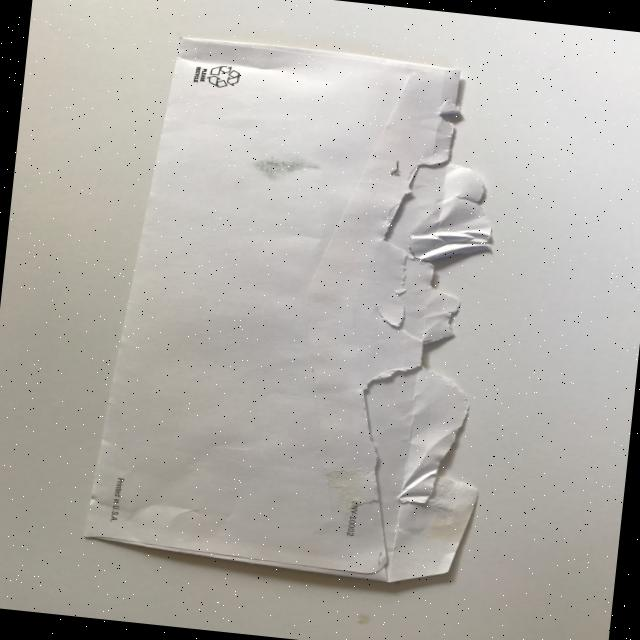paper: (81, 29, 522, 590)
